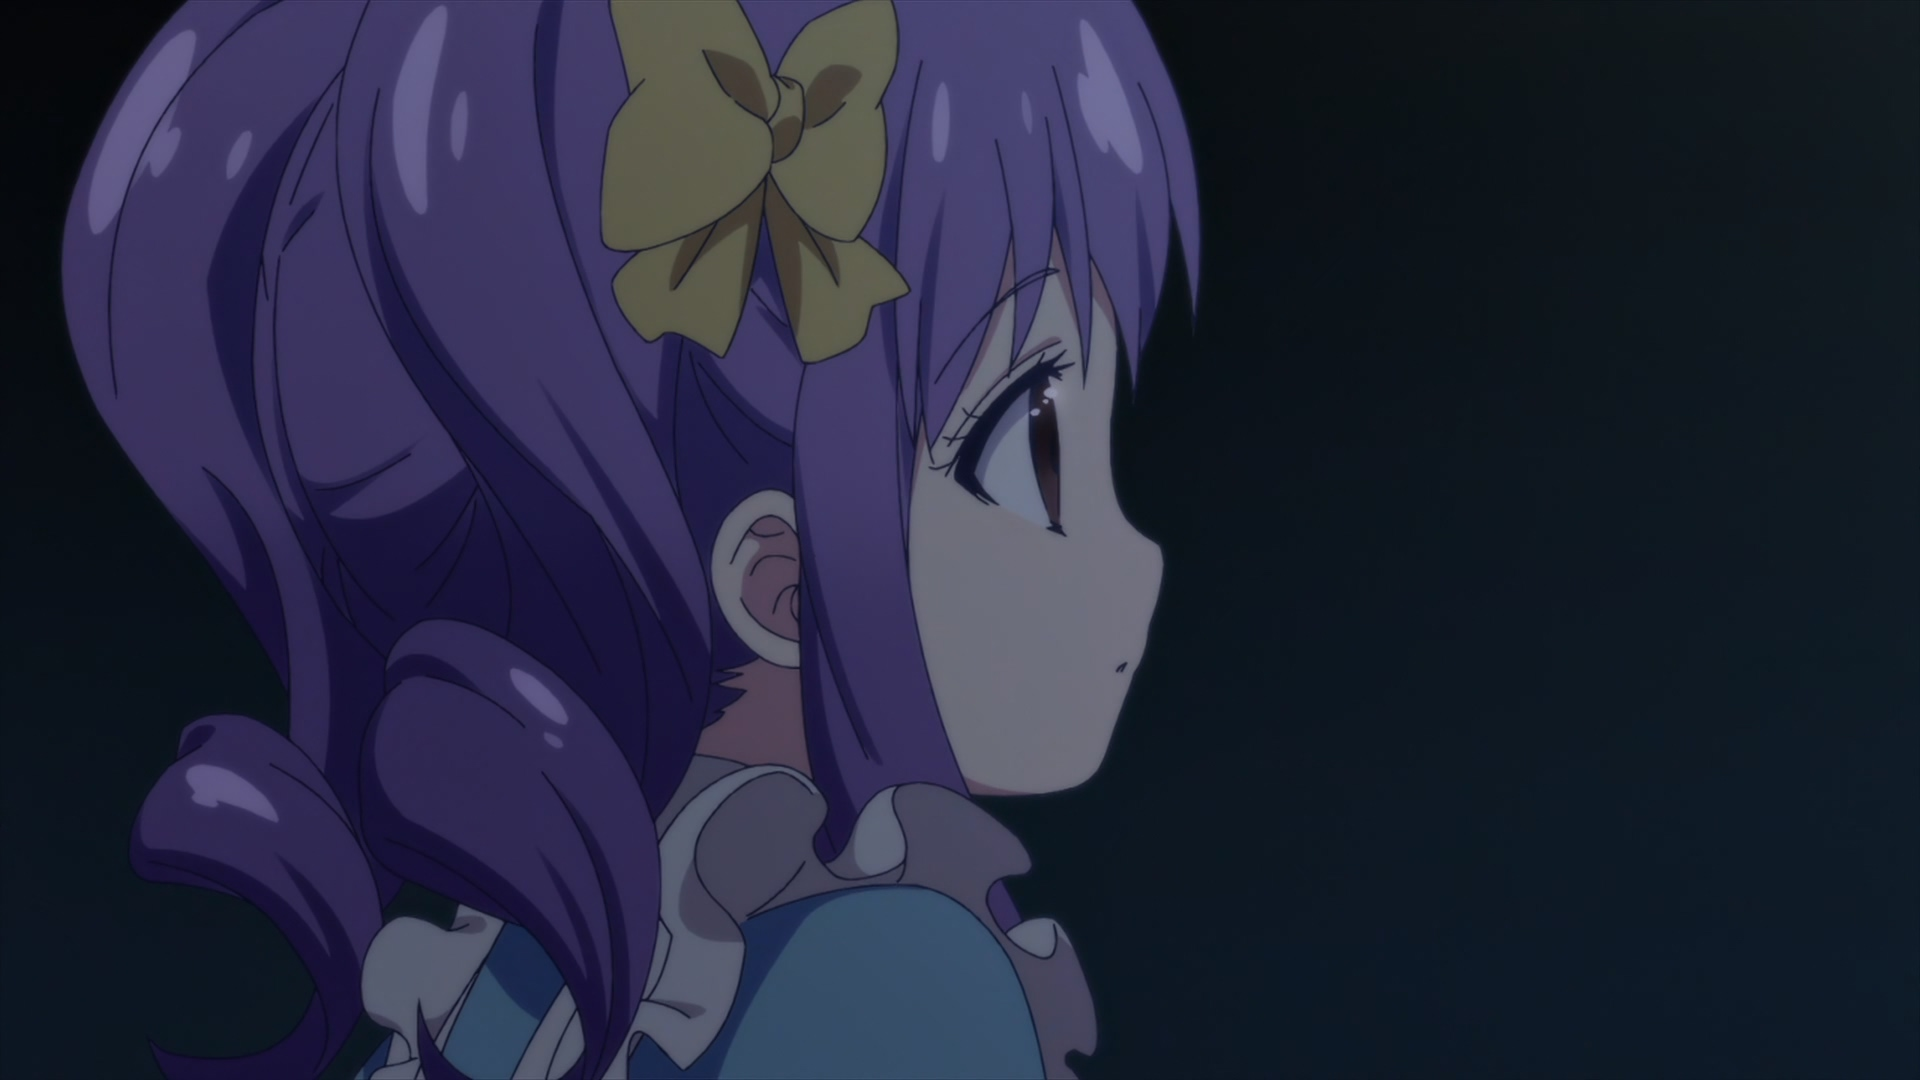阿菊: (58, 1, 1200, 1080)
